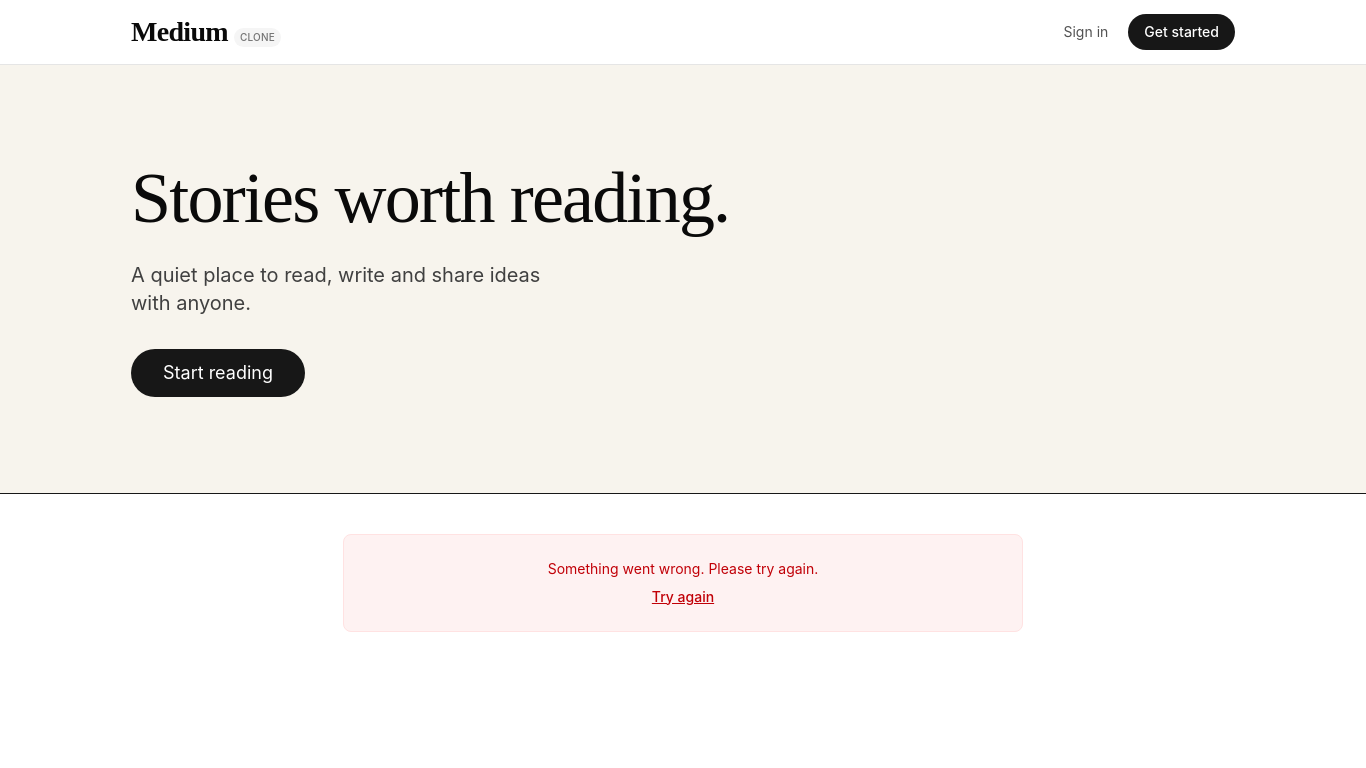
home feed › shows errors with a retry
Expected: the message shows "Something went wrong", [548,560,818,577]
What coordinates should you click on to do the following:
click the button "Try again"
I would click on:
 (683, 597)
Its box is [652,587,714,607].
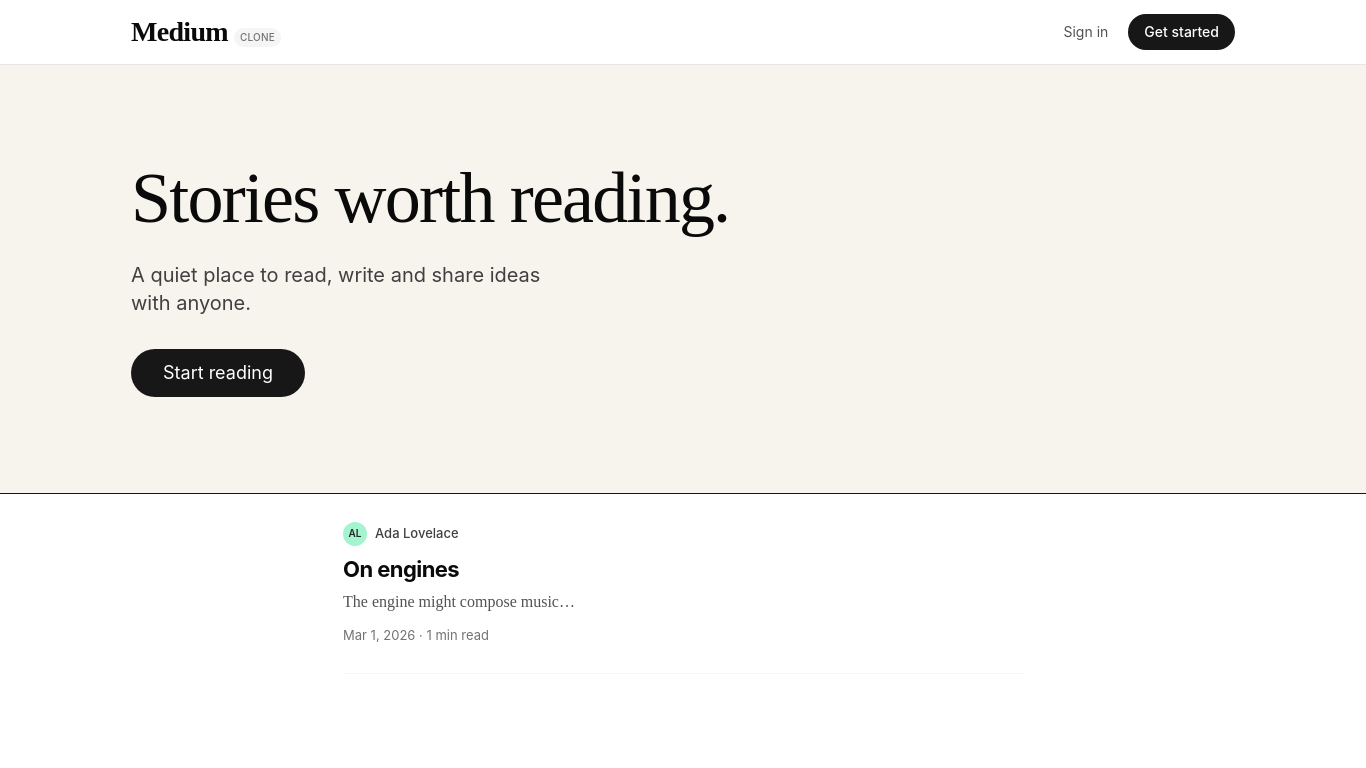
Result: the heading "On engines" is shown at [343,556,459,582]
